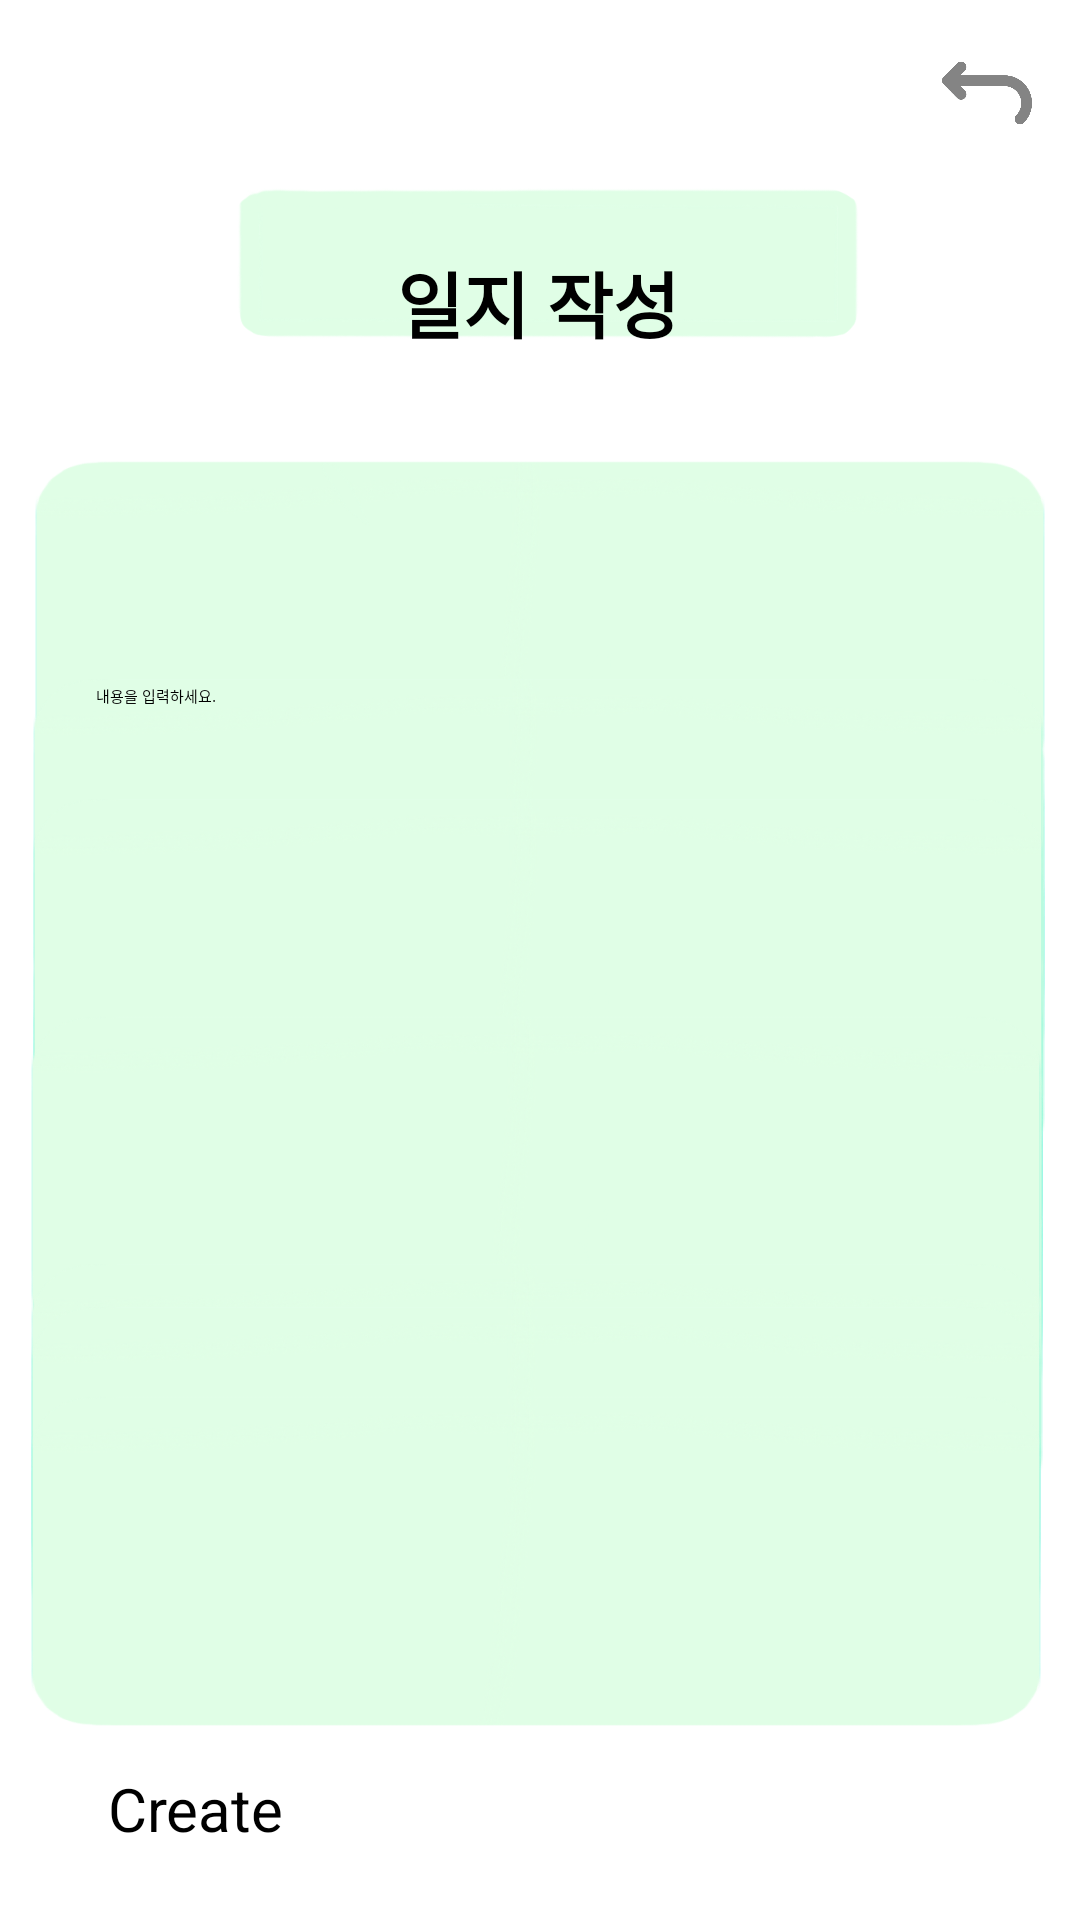

Screen size 1080px×1920px. Icon name, then its box in pixels as detection(x1, y1, x2, y2):
back: detection(942, 62, 1032, 124)
